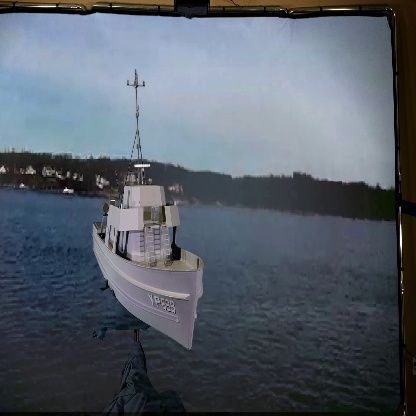YP689: (89, 68, 206, 351)
